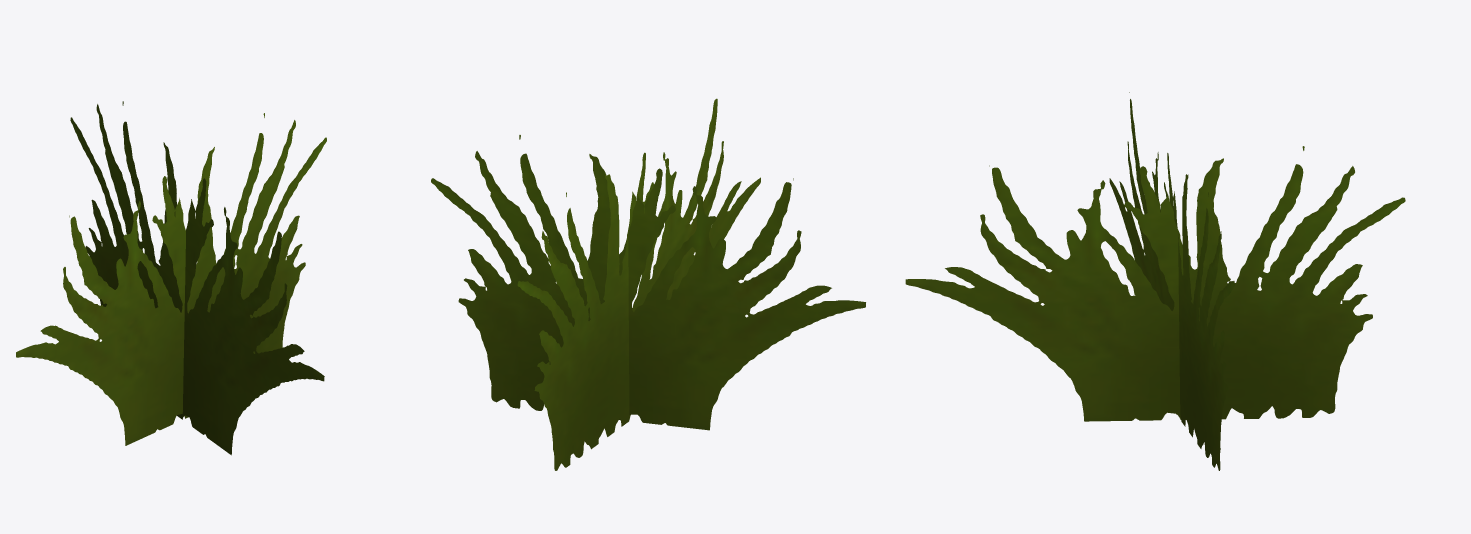
File: KL_cao8.fbx
3 views of the same model, side by side, from view 1: azimuth 30°, elevation 25°; view 2: azimuth 150°, elevation 25°; view 3: azimuth 270°, elevation 25° (orthographic).
Visible parts, largest first — view 1: polySurface1879; view 2: polySurface1879; view 3: polySurface1879.
Boxes of the visible parts, <box> form: polySurface1879: <box>16,101,326,455</box>; polySurface1879: <box>431,98,865,470</box>; polySurface1879: <box>905,92,1405,470</box>.
Bounding box in the file's own units: 1.06 × 0.7588 × 1.22.
1 material, 1 textured.
